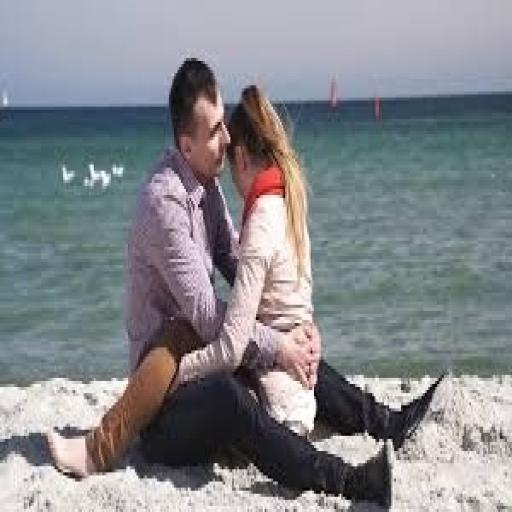hugging: (44, 55, 398, 509)
